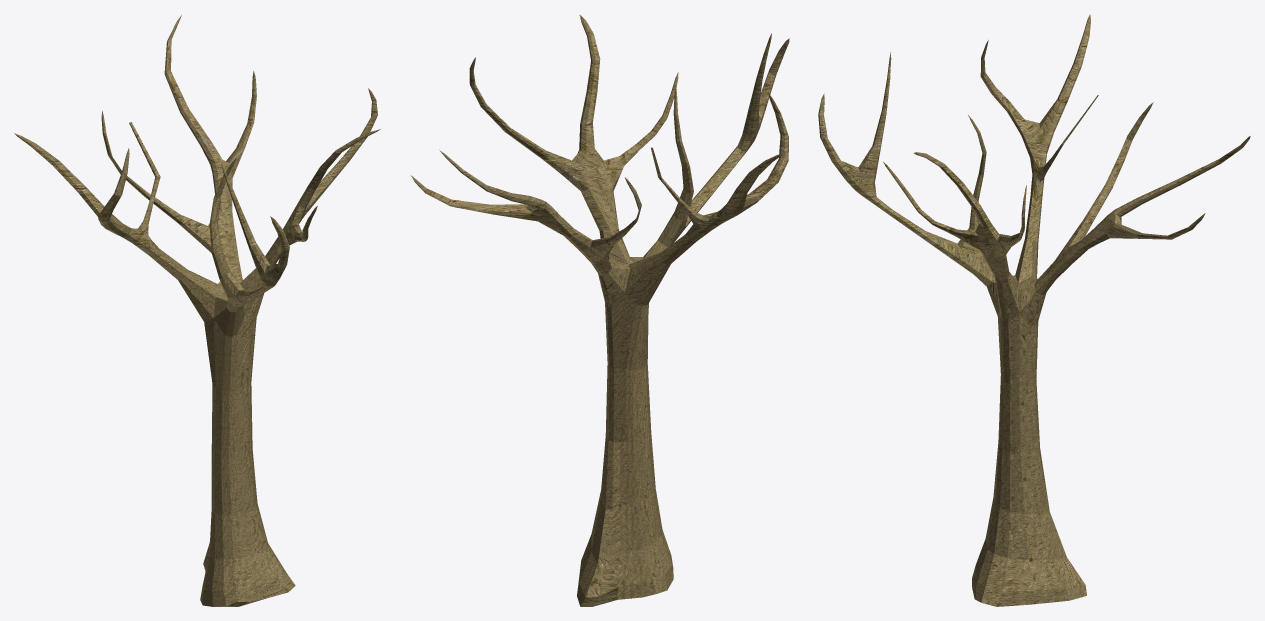
The model's file is tree.gltf.
3 renders of one model, left to right at view 1: azimuth 30°, elevation 25°; view 2: azimuth 150°, elevation 25°; view 3: azimuth 270°, elevation 25°, orthographic. The views are drawn at different scales.
Visible parts, largest first — view 1: Cube; view 2: Cube; view 3: Cube.
Part boxes in pixels (left/top/right/bottom): Cube: left=14, top=15, right=380, bottom=606; Cube: left=411, top=14, right=789, bottom=606; Cube: left=818, top=14, right=1250, bottom=606.
Bounding box in the file's own units: 9.65 × 13.93 × 10.77.
Materials: 1 (1 with a texture image).
